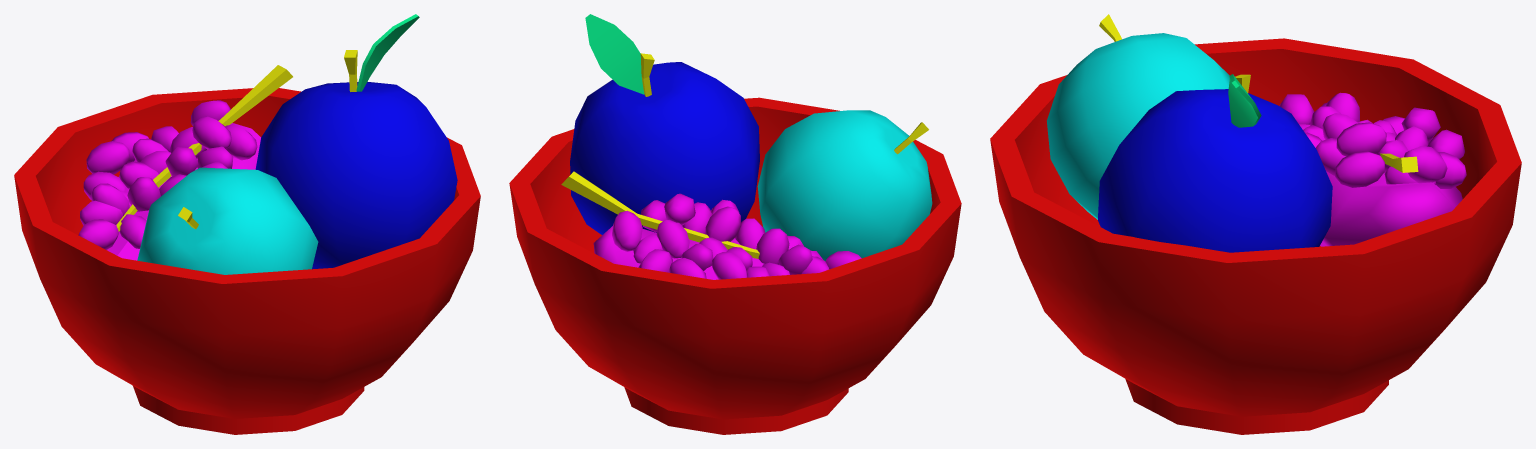
The model's file is Fruit.fbx.
3 views of the same model, side by side, from view 1: azimuth 30°, elevation 25°; view 2: azimuth 150°, elevation 25°; view 3: azimuth 270°, elevation 25° (orthographic). The views are drawn at different scales.
Visible parts, largest first — view 1: Fruit; view 2: Fruit; view 3: Fruit.
Boxes of the visible parts, left/top/right/bottom form: Fruit: left=14, top=14, right=480, bottom=434; Fruit: left=509, top=14, right=961, bottom=434; Fruit: left=990, top=14, right=1521, bottom=434.
Size of the model in its own units: 42.17 by 33.85 by 42.17.
